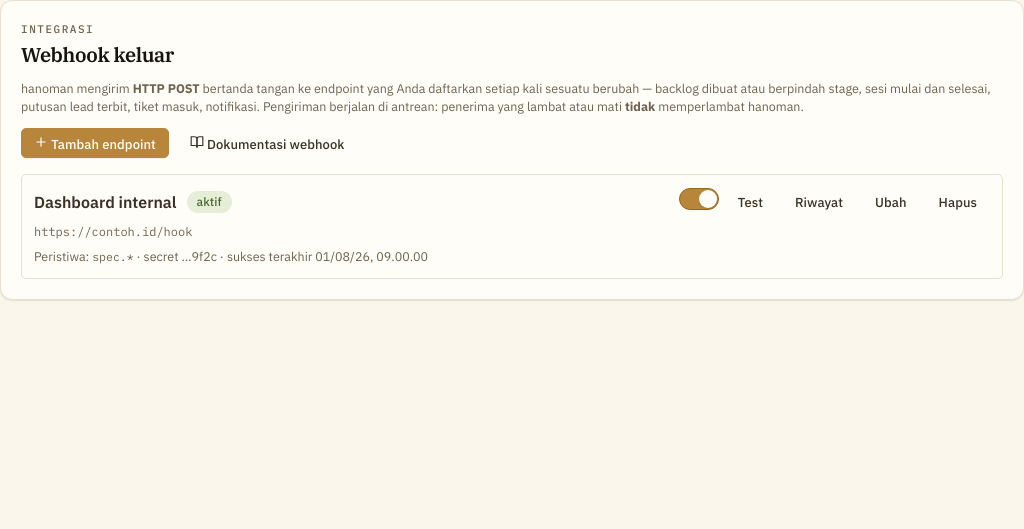
Test: WebhooksPanel › riwayat pengiriman memperlihatkan status, kode HTTP, percobaan, dan galat
This screenshot has width=1024, height=529.
Click the button "Riwayat" at (819, 202), box [782,187,856,217]
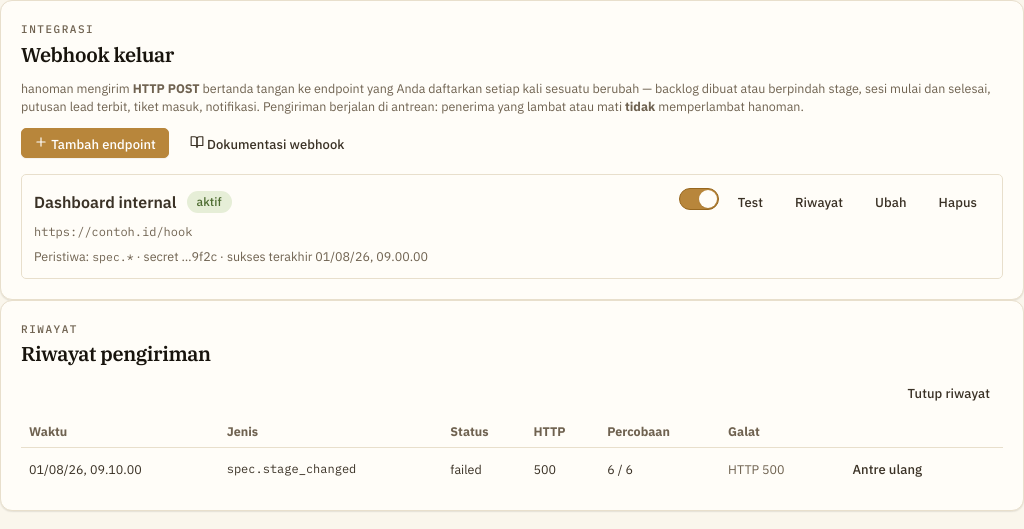
Expected: the text "spec.stage_changed" is shown, [219,448,442,490]
Expected: the text "500" is shown, [526,448,599,490]
Expected: the text "6 / 6" is shown, [599,448,720,490]
